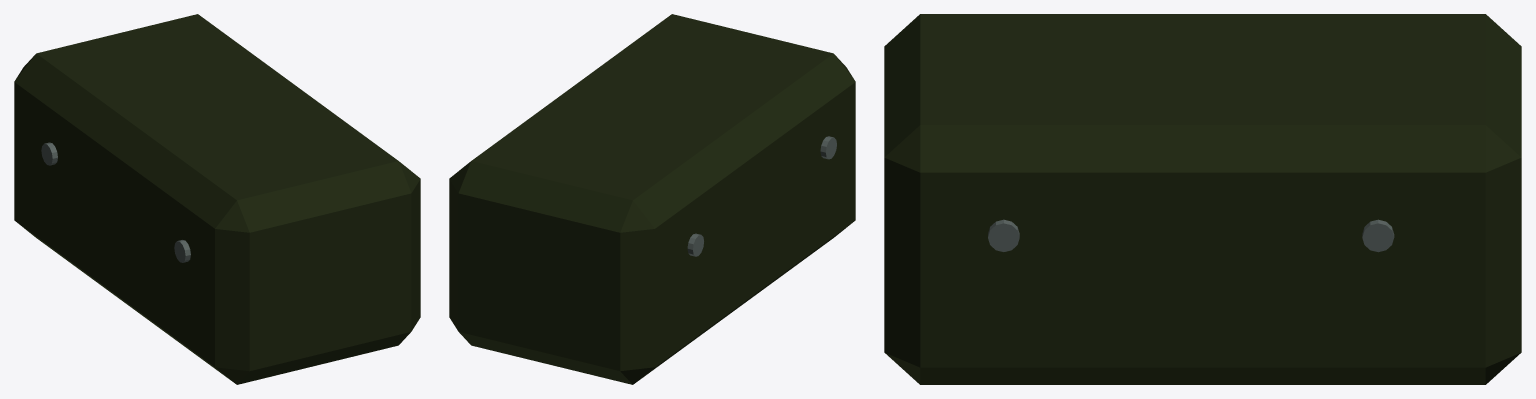
File: Grenade40__PodShell.obj
3 renders of one model, left to right at view 1: azimuth 30°, elevation 25°; view 2: azimuth 150°, elevation 25°; view 3: azimuth 270°, elevation 25°, orthographic. The views are drawn at different scales.
Parts seen in each view (by area): view 1: Grenade_pod_shell; view 2: Grenade_pod_shell; view 3: Grenade_pod_shell, Pod_access_fastener.003, Pod_access_fastener.002.
Boxes of the visible parts, x1,y1,x2,y2 form: Grenade_pod_shell: (14,14,420,384); Grenade_pod_shell: (449,14,855,384); Grenade_pod_shell: (884,14,1521,384); Pod_access_fastener.003: (1362,219,1394,252); Pod_access_fastener.002: (988,219,1019,251).
Size of the model in its own units: 0.442 by 0.36 by 0.8.
